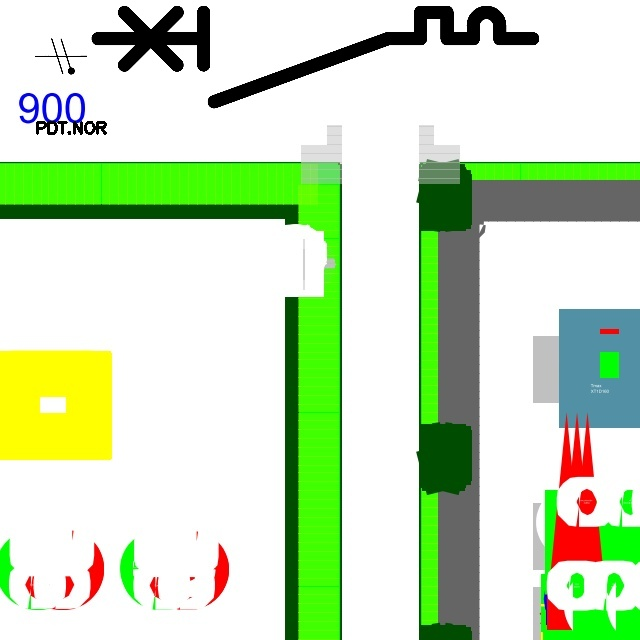interruptor_termomagnetico: (86, 1, 544, 113)
